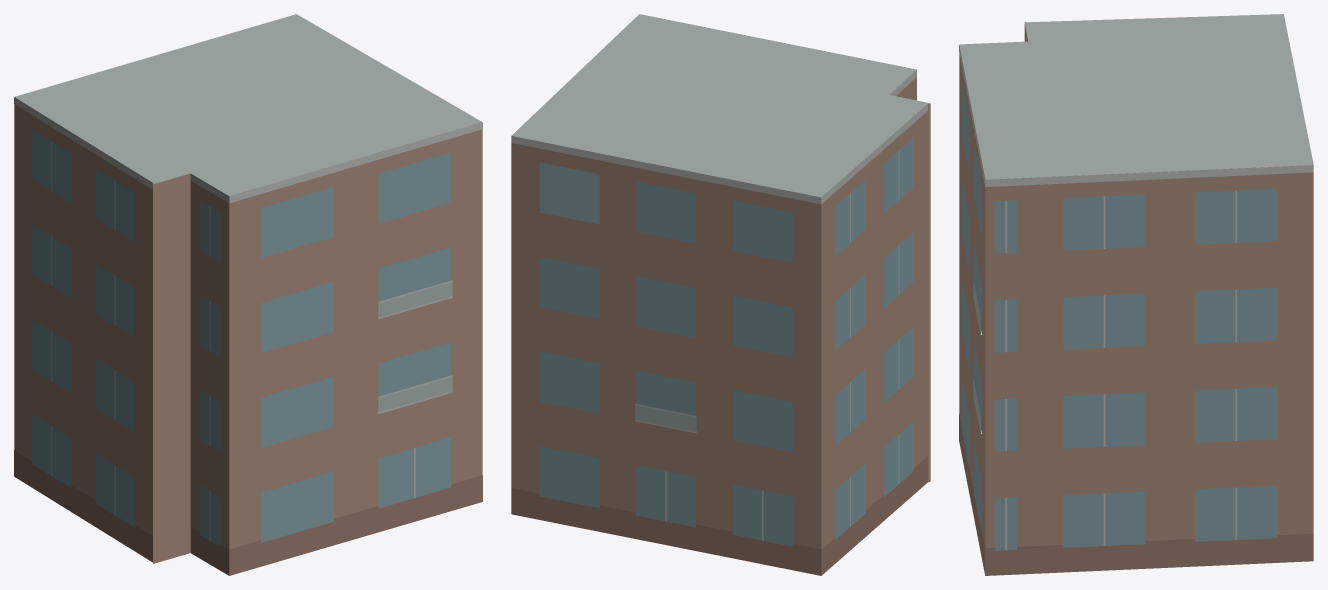
The model's file is survey-upis-32797972.glb.
3 views of the same model, side by side, from view 1: azimuth 30°, elevation 25°; view 2: azimuth 150°, elevation 25°; view 3: azimuth 270°, elevation 25° (orthographic). The views are drawn at different scales.
Parts seen in each view (by area): view 1: survey-upis-32797972.tmp; view 2: survey-upis-32797972.tmp; view 3: survey-upis-32797972.tmp.
Boxes of the visible parts, x1,y1,x2,y2 form: survey-upis-32797972.tmp: (14, 14, 482, 575); survey-upis-32797972.tmp: (511, 14, 930, 575); survey-upis-32797972.tmp: (959, 14, 1313, 575).
Size of the model in its own units: 11.81 by 13.15 by 10.68.
